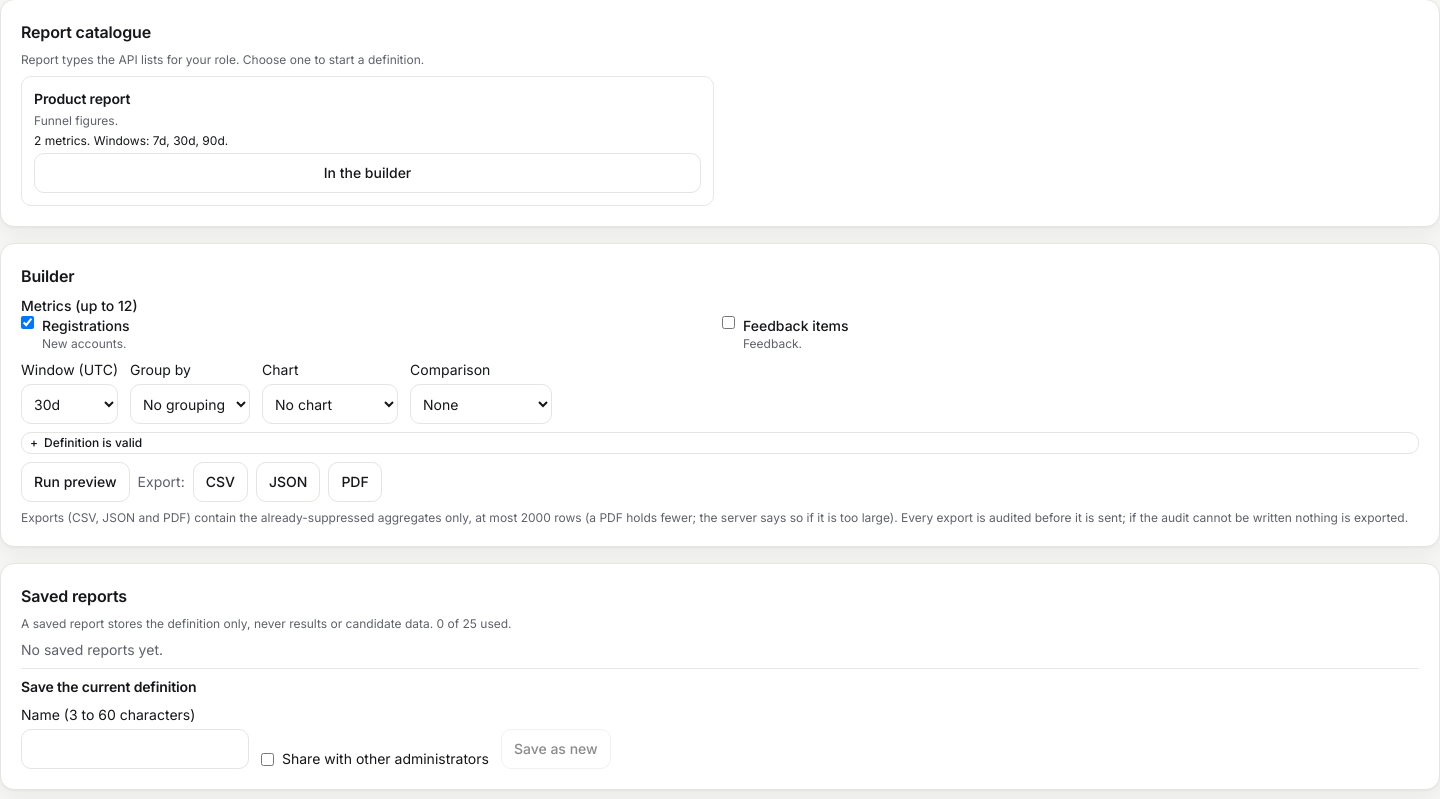
Scenario: builder UI › renders a suppressed bucket and a not-captured metric as such, never as zero, with a data table equivalent
The image size is (1440, 799).
Expected: the heading "Builder" is shown, [21,266,74,286]
Expected: the text "Definition is valid" is shown, [44,435,142,450]
Click the button "Run preview".
click(75, 482)  # box [21,462,130,502]
(page scrolled)
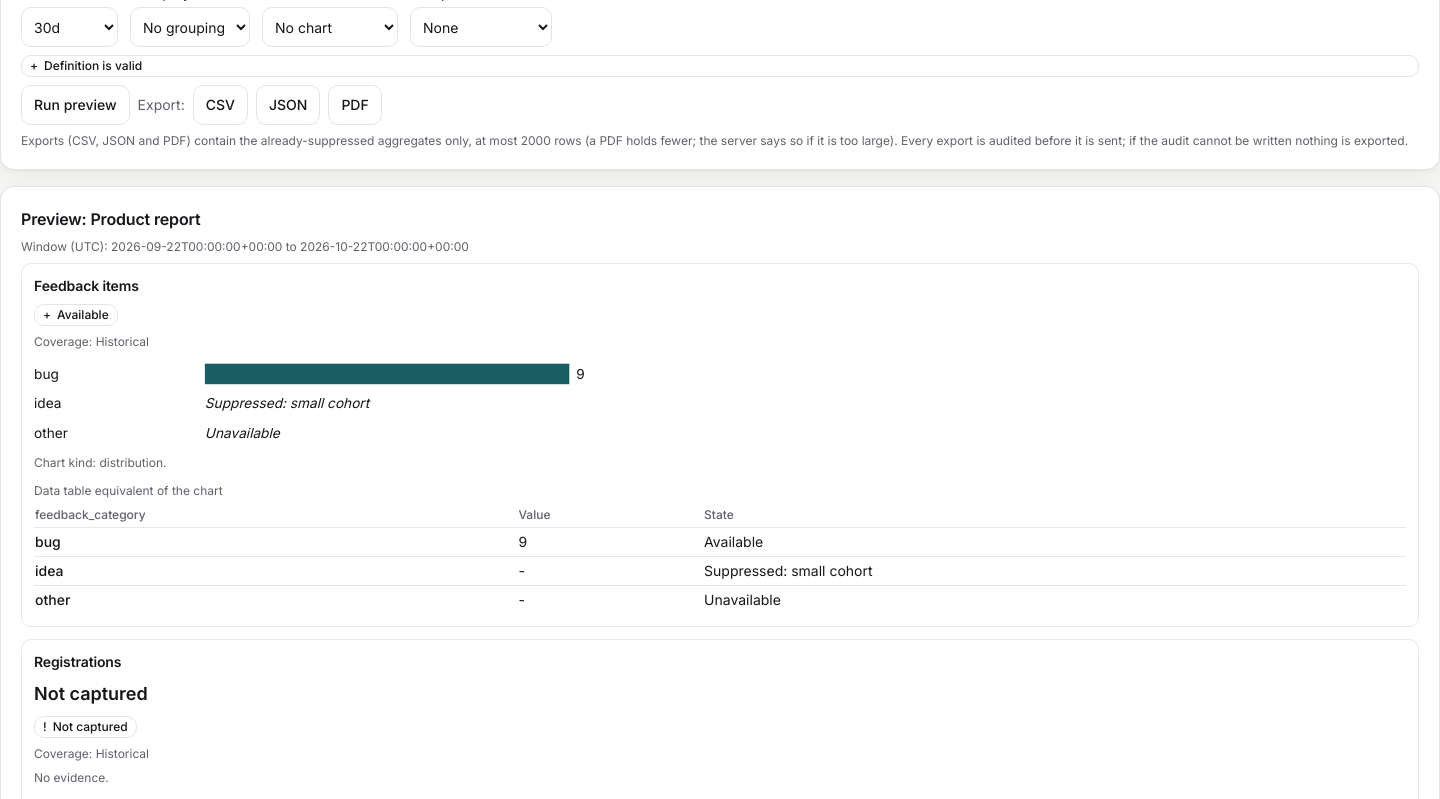
Now the heading "Preview: Product report" is shown, box [21,209,200,229]
Now the row "idea - Suppressed: small cohort" is shown, box [34,557,1406,586]
Now the row "other - Unavailable" is shown, box [34,586,1406,614]
